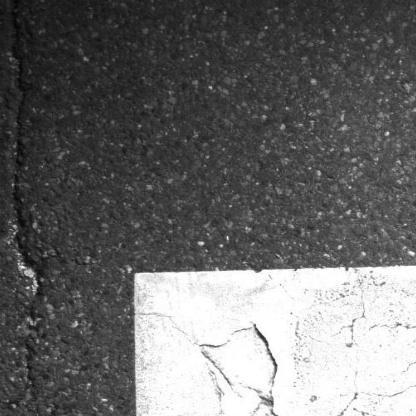Cracks: (6, 15, 49, 395)
